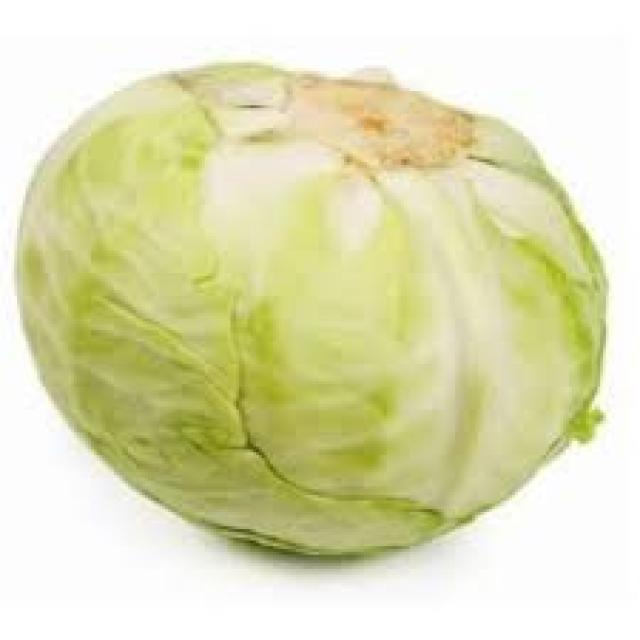cabbage: (15, 51, 640, 588)
